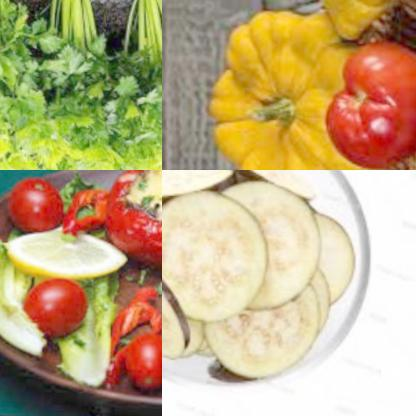bell pepper: (101, 170, 162, 271)
celery: (0, 0, 162, 170)
eggplant: (162, 170, 348, 386)
salad: (56, 273, 122, 390), (0, 213, 50, 357)
squash-patisson: (194, 0, 375, 170), (275, 0, 410, 41)
tomato: (318, 30, 416, 170), (23, 271, 89, 339), (0, 170, 67, 236), (119, 323, 162, 392)
